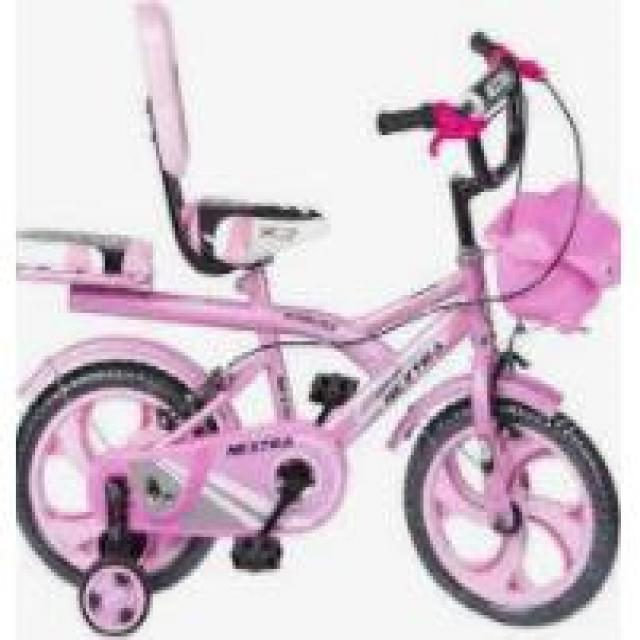bicycle: (27, 44, 616, 634)
